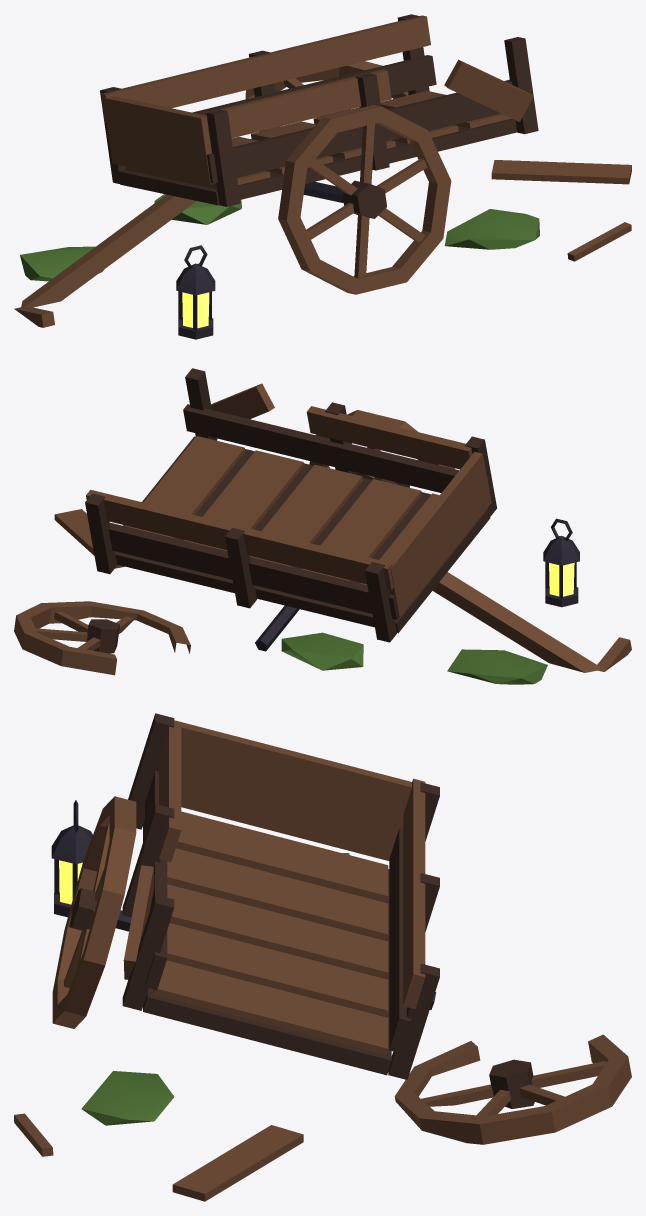
The model's file is broken_cart.glb.
3 views of the same model, one above another, from view 1: azimuth 30°, elevation 25°; view 2: azimuth 150°, elevation 25°; view 3: azimuth 270°, elevation 25° (orthographic). The views are drawn at different scales.
Visible parts, largest first — view 1: broken_cart; view 2: broken_cart; view 3: broken_cart.
Boxes of the visible parts, x1=… form: broken_cart: x1=14, y1=14, x2=631, y2=339; broken_cart: x1=14, y1=368, x2=631, y2=684; broken_cart: x1=14, y1=713, x2=631, y2=1201.
Bounding box in the file's own units: 3.07 × 0.8829 × 2.19.
